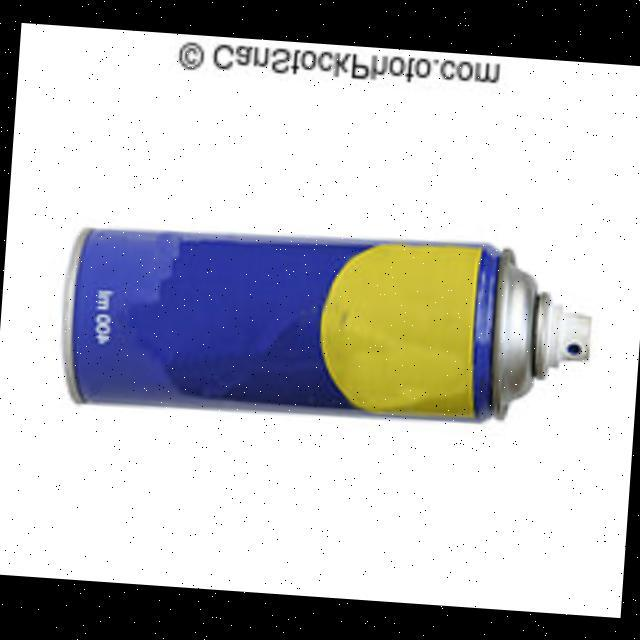chemical_spray_can: (38, 192, 610, 448)
